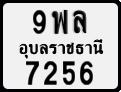letters: (50, 8, 69, 35), (42, 60, 58, 86), (32, 8, 47, 35), (61, 60, 76, 86), (79, 60, 94, 86), (25, 60, 39, 86), (73, 9, 87, 34)
province: (17, 39, 105, 59)
